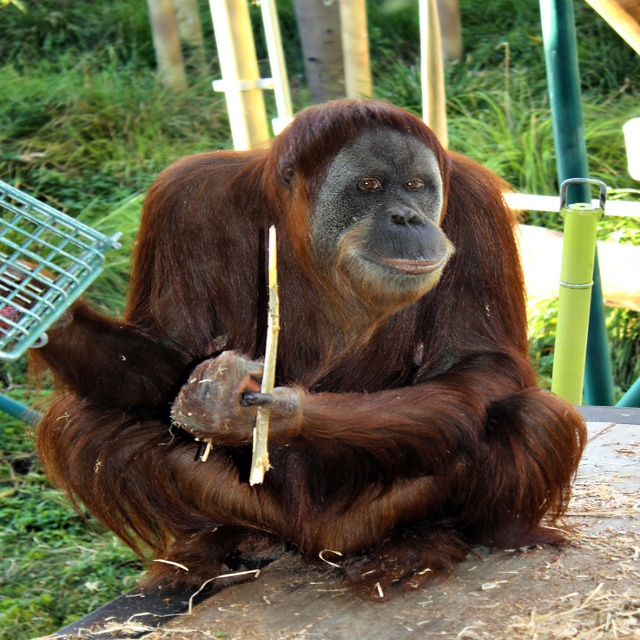Monkey: (0, 98, 588, 625)
